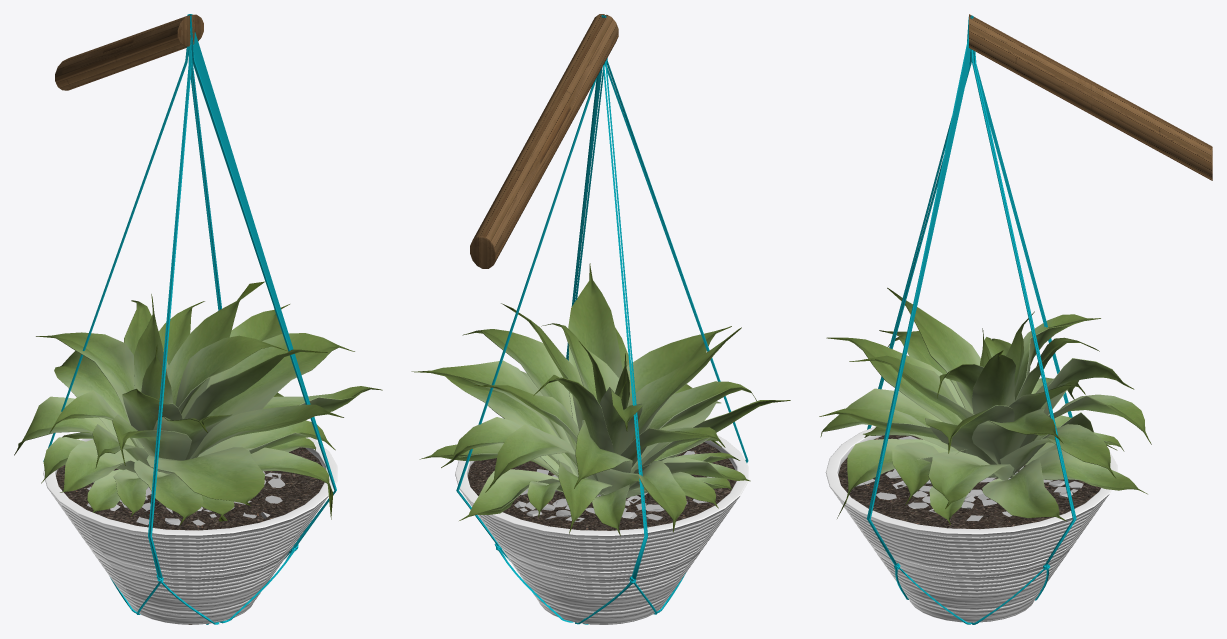
Rendered from Potted Hangling Plant 2.glb.
3 renders of one model, left to right at view 1: azimuth 30°, elevation 25°; view 2: azimuth 150°, elevation 25°; view 3: azimuth 270°, elevation 25°, orthographic.
Parts seen in each view (by area): view 1: cc6f7657-0697-4f69-a5c2-d6ff6f5b23b6, c74bcaaf-a017-4c8c-ad99-8f9bff23059b, 8be1b9ee-281e-4d3e-9a99-21fc90632a61, 6df6cc6f-9575-4468-9f2d-e66dc0ce0d85, bddc26dd-98c9-4f99-959d-604aa2a70082, c463e078-d5dc-4cf8-b882-16284268a510, b7314d5e-4e1d-447e-8f53-ba231853ec10, 63dee209-dc10-43eb-a17d-4e5026e2c66b, 08246bea-a198-471a-8256-206f1f885fdf, b4d5572b-9407-4c7a-aca5-d437b640485f, f33ed423-c61c-49a8-9778-08c384ec1b64, 387d0eaa-9cd7-4010-bdba-a2af47ff8631 (+20 smaller); view 2: cc6f7657-0697-4f69-a5c2-d6ff6f5b23b6, 6df6cc6f-9575-4468-9f2d-e66dc0ce0d85, c74bcaaf-a017-4c8c-ad99-8f9bff23059b, 8be1b9ee-281e-4d3e-9a99-21fc90632a61, 695e9ab4-f92b-45de-a507-3f4a71d26b43, bddc26dd-98c9-4f99-959d-604aa2a70082, 5047ce89-942c-489d-b22c-0423d263abcd, cfdd2a8e-c2a8-4bcf-8d4b-058640f4d330, 09787c0e-d8b0-4485-9b84-456067fca7c1, 7f1408e0-4e21-4030-9c11-c045a0e0ba0a, 1d773e0c-605c-4739-bead-ca4bb18500ae, 163adda1-52bb-4428-ba58-cb724568aa88 (+19 smaller); view 3: cc6f7657-0697-4f69-a5c2-d6ff6f5b23b6, 6df6cc6f-9575-4468-9f2d-e66dc0ce0d85, c74bcaaf-a017-4c8c-ad99-8f9bff23059b, 8be1b9ee-281e-4d3e-9a99-21fc90632a61, 2be326ba-039e-4854-a37d-e1134221befa, 8533dd03-ce0d-4f11-9a71-78a51a1b8940, 1d773e0c-605c-4739-bead-ca4bb18500ae, 5047ce89-942c-489d-b22c-0423d263abcd, 09787c0e-d8b0-4485-9b84-456067fca7c1, 72fb085a-f832-4f2f-935a-9c96bb4dd4e6, 163adda1-52bb-4428-ba58-cb724568aa88, c463e078-d5dc-4cf8-b882-16284268a510 (+16 smaller).
Boxes of the visible parts, x1,y1,x2,y2 form: cc6f7657-0697-4f69-a5c2-d6ff6f5b23b6: [43, 432, 337, 624]; c74bcaaf-a017-4c8c-ad99-8f9bff23059b: [43, 14, 336, 624]; 8be1b9ee-281e-4d3e-9a99-21fc90632a61: [56, 447, 324, 530]; 6df6cc6f-9575-4468-9f2d-e66dc0ce0d85: [55, 14, 203, 90]; bddc26dd-98c9-4f99-959d-604aa2a70082: [206, 333, 354, 416]; c463e078-d5dc-4cf8-b882-16284268a510: [146, 447, 264, 505]; b7314d5e-4e1d-447e-8f53-ba231853ec10: [175, 335, 287, 413]; 63dee209-dc10-43eb-a17d-4e5026e2c66b: [36, 332, 149, 455]; 08246bea-a198-471a-8256-206f1f885fdf: [190, 404, 343, 458]; b4d5572b-9407-4c7a-aca5-d437b640485f: [166, 281, 264, 419]; f33ed423-c61c-49a8-9778-08c384ec1b64: [60, 439, 136, 492]; 387d0eaa-9cd7-4010-bdba-a2af47ff8631: [54, 351, 135, 446]; cc6f7657-0697-4f69-a5c2-d6ff6f5b23b6: [455, 435, 748, 624]; 6df6cc6f-9575-4468-9f2d-e66dc0ce0d85: [470, 14, 618, 268]; c74bcaaf-a017-4c8c-ad99-8f9bff23059b: [456, 15, 748, 624]; 8be1b9ee-281e-4d3e-9a99-21fc90632a61: [467, 442, 736, 530]; 695e9ab4-f92b-45de-a507-3f4a71d26b43: [568, 263, 622, 426]; bddc26dd-98c9-4f99-959d-604aa2a70082: [462, 329, 586, 478]; 5047ce89-942c-489d-b22c-0423d263abcd: [411, 360, 585, 478]; cfdd2a8e-c2a8-4bcf-8d4b-058640f4d330: [596, 461, 686, 532]; 09787c0e-d8b0-4485-9b84-456067fca7c1: [626, 326, 731, 429]; 7f1408e0-4e21-4030-9c11-c045a0e0ba0a: [485, 424, 604, 495]; 1d773e0c-605c-4739-bead-ca4bb18500ae: [627, 327, 741, 441]; 163adda1-52bb-4428-ba58-cb724568aa88: [459, 469, 559, 520]; cc6f7657-0697-4f69-a5c2-d6ff6f5b23b6: [825, 426, 1117, 622]; 6df6cc6f-9575-4468-9f2d-e66dc0ce0d85: [969, 14, 1212, 180]; c74bcaaf-a017-4c8c-ad99-8f9bff23059b: [867, 15, 1076, 624]; 8be1b9ee-281e-4d3e-9a99-21fc90632a61: [838, 435, 1100, 529]; 2be326ba-039e-4854-a37d-e1134221befa: [982, 459, 1066, 521]; 8533dd03-ce0d-4f11-9a71-78a51a1b8940: [928, 451, 1014, 509]; 1d773e0c-605c-4739-bead-ca4bb18500ae: [887, 287, 980, 413]; 5047ce89-942c-489d-b22c-0423d263abcd: [972, 408, 1063, 478]; 09787c0e-d8b0-4485-9b84-456067fca7c1: [826, 337, 964, 425]; 72fb085a-f832-4f2f-935a-9c96bb4dd4e6: [1000, 424, 1115, 477]; 163adda1-52bb-4428-ba58-cb724568aa88: [1010, 449, 1147, 494]; c463e078-d5dc-4cf8-b882-16284268a510: [820, 388, 957, 451].
Bounding box in the file's own units: 0.3343 × 0.597 × 0.359.
Materials: 6 (3 with a texture image).
